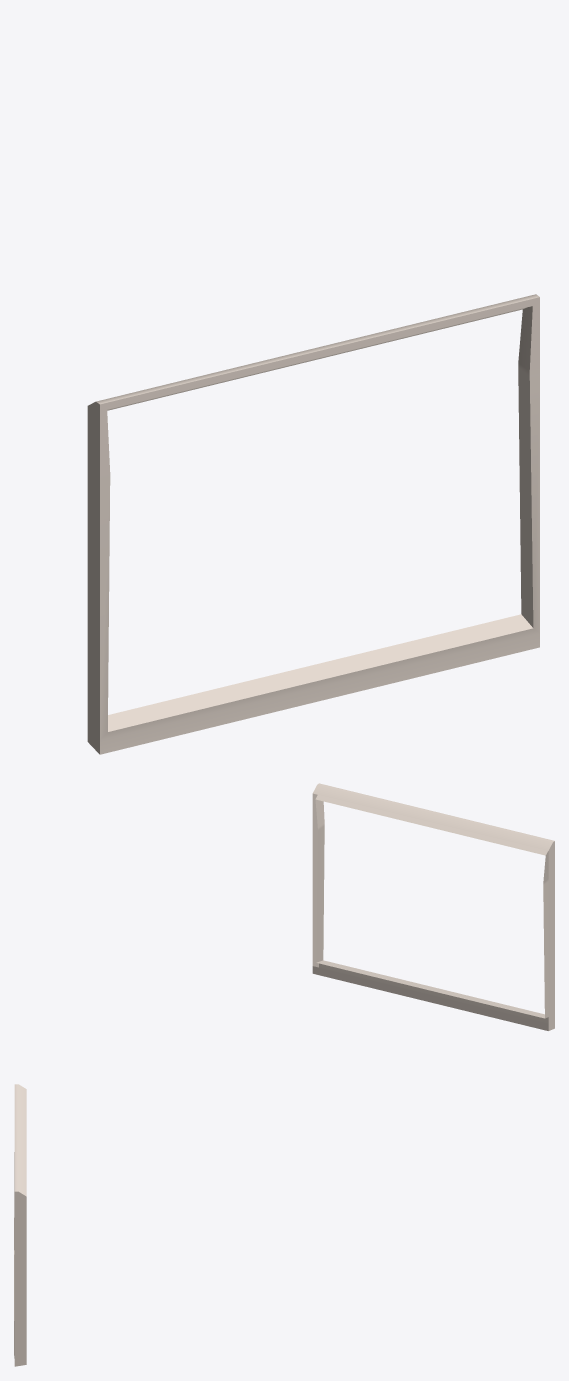
Rendered from FridgeDrawer1_15_FridgeDrawer1C3_1_GeomSubset_0.obj.
3 renders of one model, top to bottom at view 1: azimuth 30°, elevation 25°; view 2: azimuth 150°, elevation 25°; view 3: azimuth 270°, elevation 25°, orthographic. The views are drawn at different scales.
Parts seen in each view (by area): view 1: FridgeDrawer1_15_FridgeDrawer1C3_1_GeomSubset_0; view 2: FridgeDrawer1_15_FridgeDrawer1C3_1_GeomSubset_0; view 3: FridgeDrawer1_15_FridgeDrawer1C3_1_GeomSubset_0.
Boxes of the visible parts, box(x1,y1,x2,y2) form: FridgeDrawer1_15_FridgeDrawer1C3_1_GeomSubset_0: box(87, 294, 539, 754); FridgeDrawer1_15_FridgeDrawer1C3_1_GeomSubset_0: box(312, 783, 554, 1030); FridgeDrawer1_15_FridgeDrawer1C3_1_GeomSubset_0: box(14, 1084, 26, 1366).
Size of the model in its own units: 0.4704 by 0.3355 by 0.9391.
